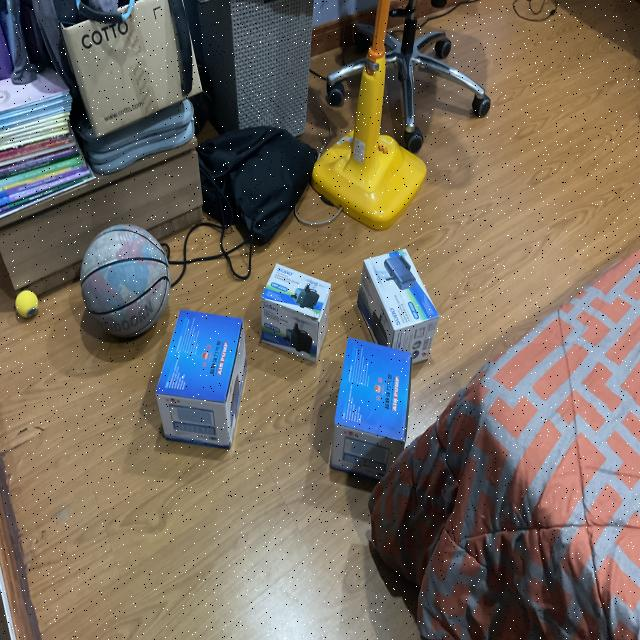SOBO_WP_4200: (357, 234, 449, 368), (255, 242, 335, 378)
YAMANO_LPP_20: (148, 303, 264, 475), (329, 330, 423, 513)
